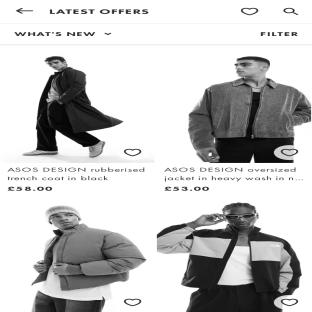Dropdown: (16, 30, 118, 39)
Jacket: (158, 225, 303, 299), (27, 229, 150, 292), (192, 80, 309, 140), (32, 70, 129, 134)
button: (259, 31, 303, 39)
cancel icon: (16, 3, 34, 14)
love icon: (282, 145, 300, 158), (121, 146, 141, 156)
